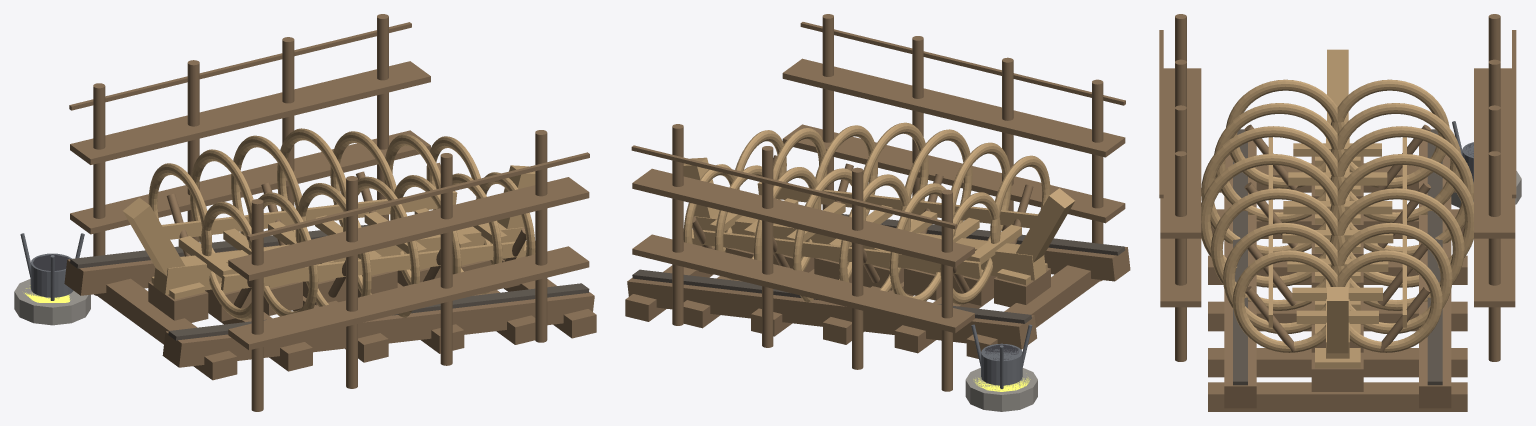
File: drydock_slipway.glb
The picture shows the model from 3 angles, left to right: view 1: azimuth 30°, elevation 25°; view 2: azimuth 150°, elevation 25°; view 3: azimuth 270°, elevation 25°; orthographic projection. The views are drawn at different scales.
Visible parts, largest first — view 1: Cube.038, Cube.039, Cube.042, Cube, Cube.041, Cube.004, Cube.036, Cube.026, Cube.037, Cylinder.008, Cylinder.011, Cylinder.010 (+38 smaller); view 2: Cube.039, Cube.042, Cube.041, Cube.002, Cube.038, Cube.037, Cube.004, Cube.026, Cube.036, Cube.043, Cylinder.012, Cylinder.015 (+39 smaller); view 3: Cube.009, Cube.042, Cube.039, Cube.008, Torus.007, Torus.006, Cube.002, Cube, Torus.012, Torus.013, Torus.004, Torus.005 (+48 smaller).
Boxes of the visible parts, bbox=[...] form: Cube.038: bbox=[228, 246, 589, 350]; Cube.039: bbox=[228, 177, 589, 280]; Cube.042: bbox=[70, 61, 430, 164]; Cube: bbox=[162, 292, 594, 367]; Cube.041: bbox=[70, 130, 430, 234]; Cube.004: bbox=[95, 278, 237, 380]; Cube.036: bbox=[221, 241, 524, 290]; Cube.026: bbox=[153, 222, 522, 294]; Cube.037: bbox=[162, 191, 457, 239]; Cylinder.008: bbox=[251, 199, 263, 411]; Cylinder.011: bbox=[535, 130, 547, 342]; Cylinder.010: bbox=[440, 153, 452, 365]; Cube.039: bbox=[782, 58, 1125, 157]; Cube.042: bbox=[632, 168, 974, 267]; Cube.041: bbox=[632, 234, 974, 333]; Cube.002: bbox=[627, 277, 1036, 349]; Cube.038: bbox=[782, 124, 1125, 223]; Cube.037: bbox=[693, 230, 981, 276]; Cube.004: bbox=[966, 265, 1100, 358]; Cube.026: bbox=[695, 212, 1045, 280]; Cube.036: bbox=[757, 182, 1037, 228]; Cube.043: bbox=[631, 145, 956, 229]; Cylinder.012: bbox=[941, 189, 952, 391]; Cylinder.015: bbox=[672, 124, 683, 325]; Cube.009: bbox=[1208, 382, 1467, 411]; Cube.042: bbox=[1474, 68, 1515, 238]; Cube.039: bbox=[1160, 68, 1201, 238]; Cube.008: bbox=[1208, 348, 1467, 377]; Torus.007: bbox=[1201, 154, 1345, 287]; Torus.006: bbox=[1330, 154, 1473, 287]; Cube.002: bbox=[1419, 140, 1451, 408]; Cube: bbox=[1224, 140, 1256, 408]; Torus.012: bbox=[1337, 250, 1442, 352]; Torus.013: bbox=[1232, 250, 1337, 352]; Torus.004: bbox=[1330, 126, 1473, 255]; Torus.005: bbox=[1201, 126, 1345, 255].
Bounding box in the file's own units: 4.7 × 2.29 × 3.35.
